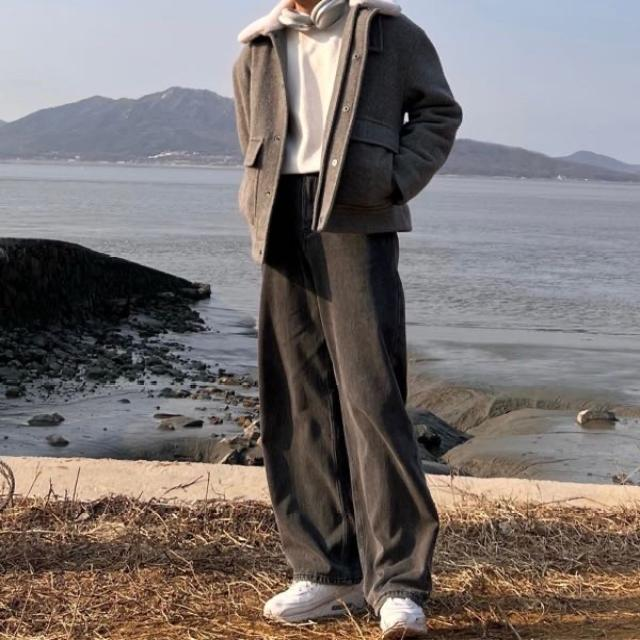denimpants: (261, 168, 440, 607)
jacket: (232, 2, 462, 263)
